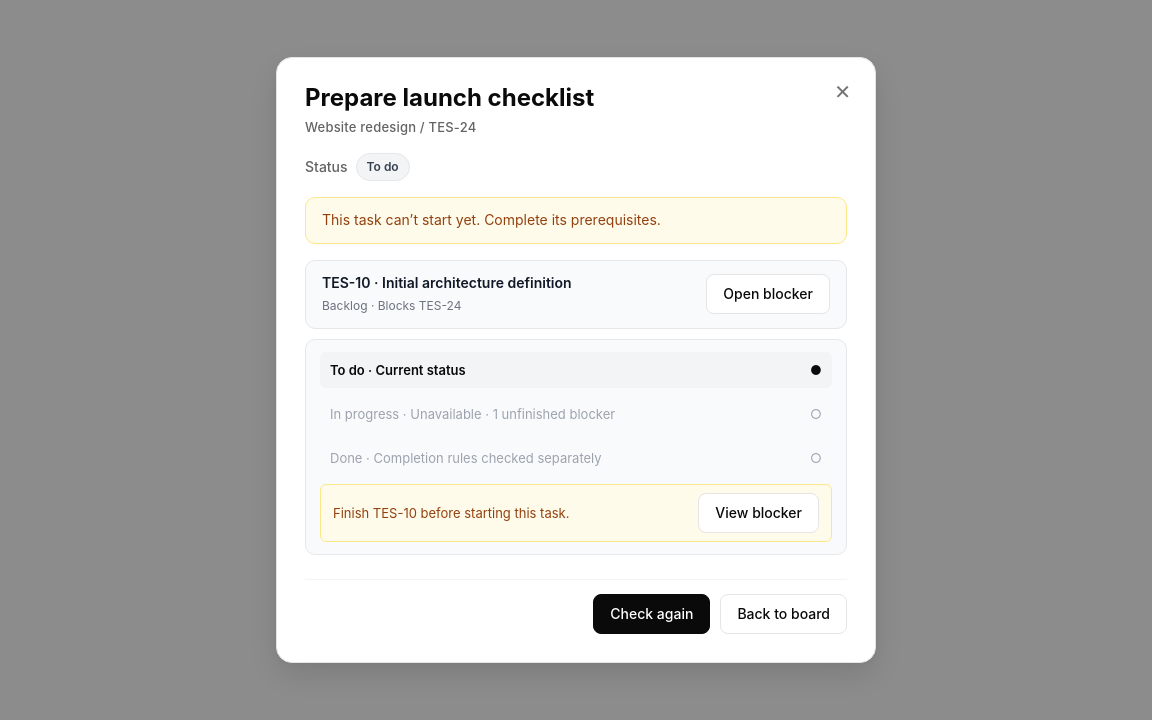
Test case: BlockedTaskStartModal › correctly labels a Backlog prerequisite as "Backlog" instead of "In progress"
Expected: the element with test id "blocker-item-task-backlog-1" shows "Backlog · Blocks TES-24", [305,260,847,329]
Expected: the element with test id "blocker-item-task-backlog-1" does not show "In progress · Blocks", [305,260,847,329]
// Open prerequisite details
Click the button with test id "open-blocker-task-backlog-1". click: point(768, 294)
box: [706,274,830,314]
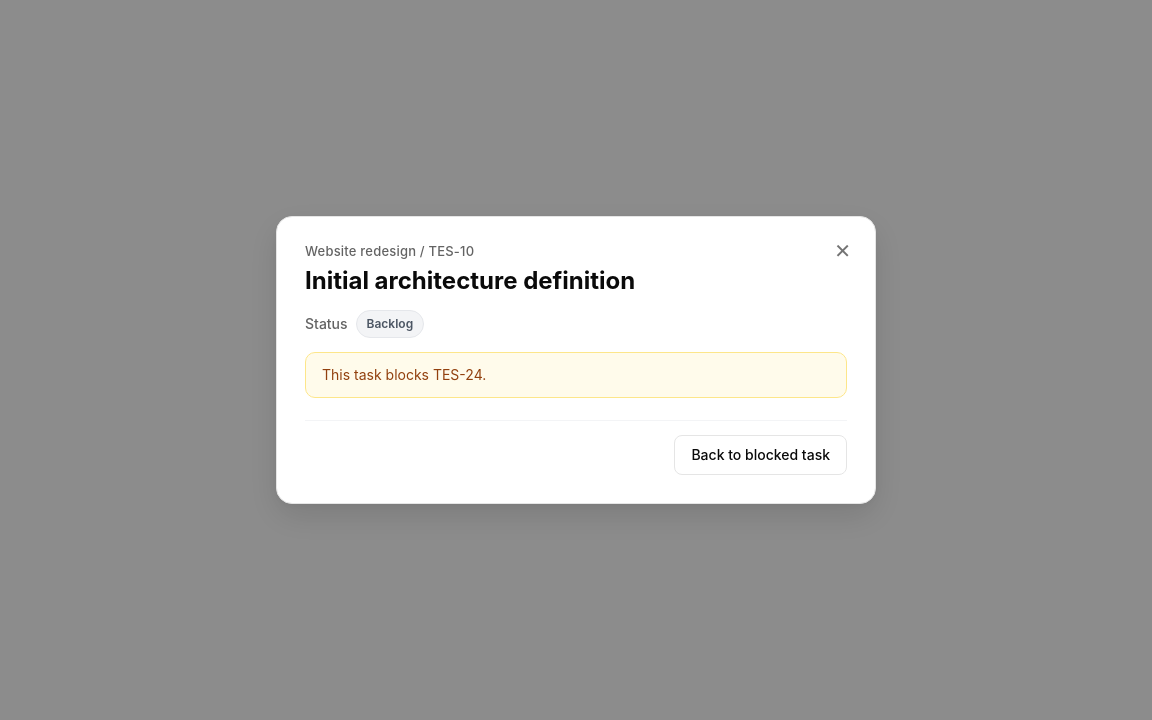
Expected: the text with test id "prerequisite-status-badge" reads "Backlog", [367,316,413,331]
Result: the text with test id "prerequisite-status-badge" no longer shows "In progress" at [356,310,424,338]
